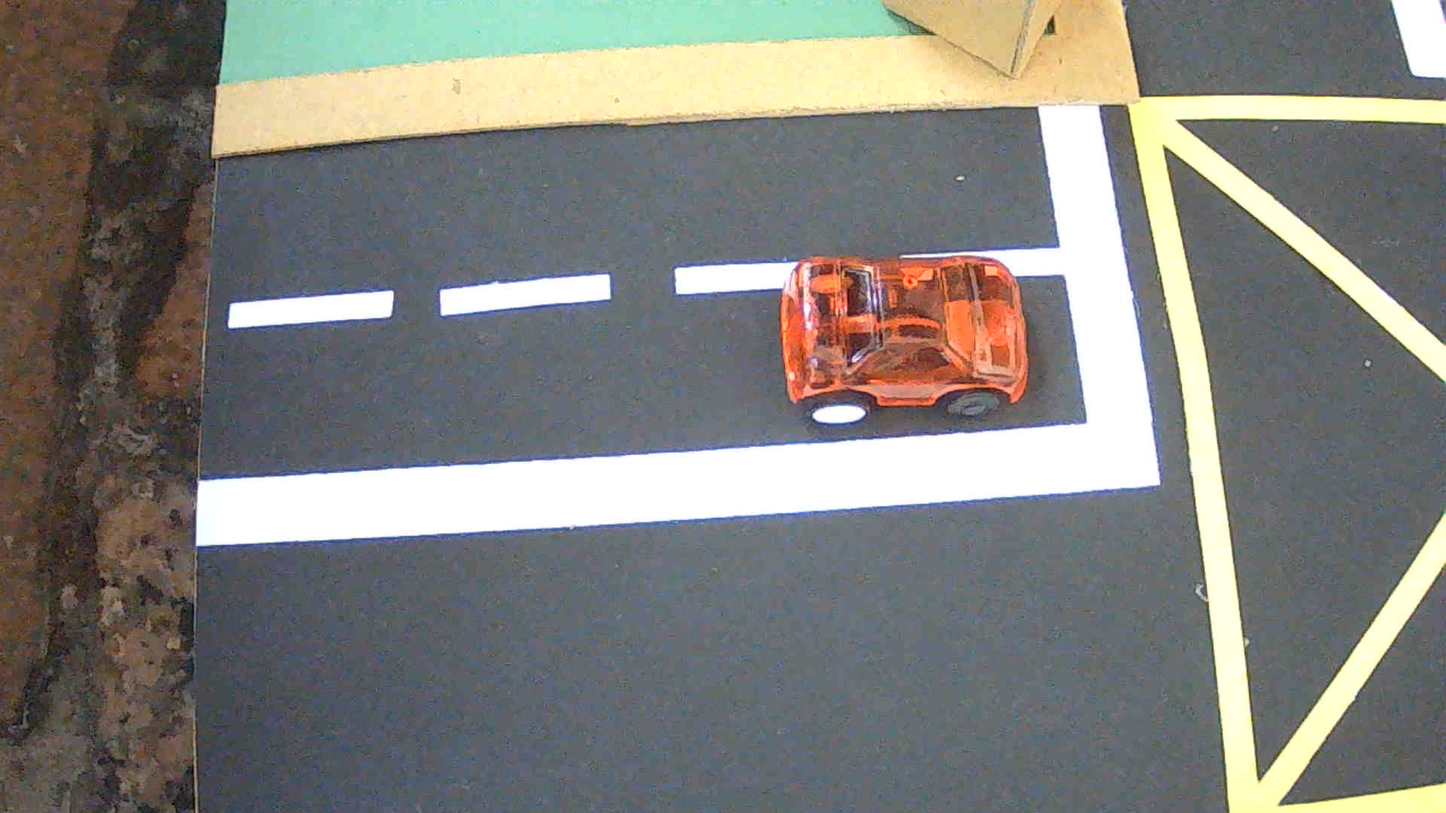Mobil merah: (779, 254, 1030, 423)
